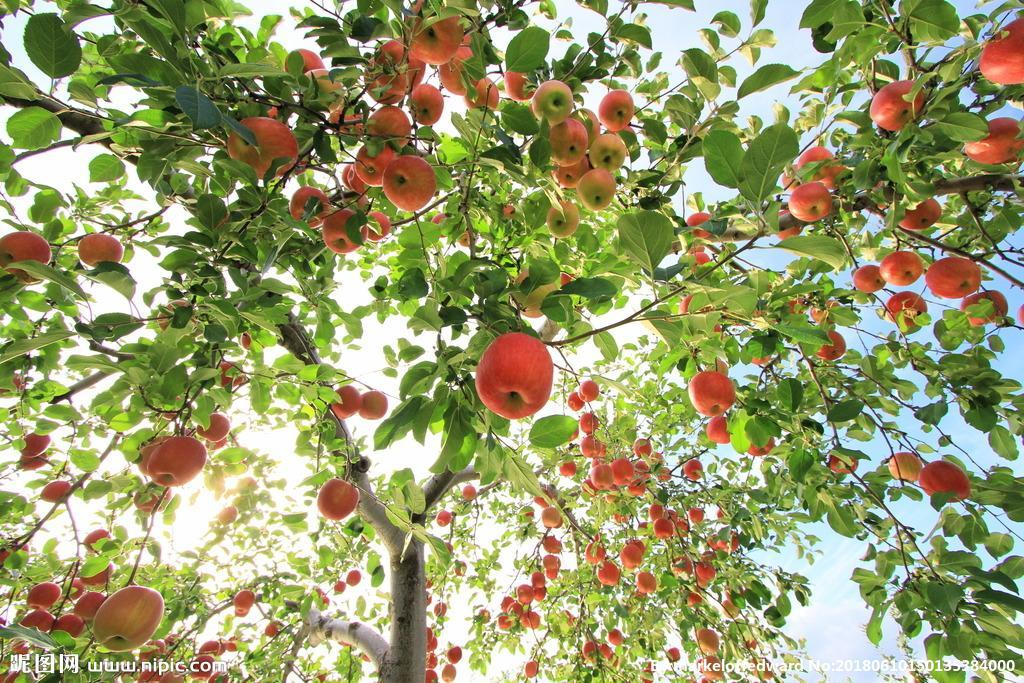apple: (473, 330, 552, 421), (91, 584, 167, 650), (227, 114, 297, 173), (403, 1, 465, 65), (144, 435, 208, 488), (380, 153, 435, 214), (963, 113, 1022, 167), (868, 78, 923, 133), (924, 256, 982, 299), (686, 370, 735, 418), (548, 117, 590, 168), (1, 231, 52, 273), (314, 476, 360, 521), (787, 181, 836, 222), (352, 143, 398, 186), (322, 209, 366, 253), (529, 79, 574, 122), (75, 233, 123, 269), (896, 194, 942, 231), (597, 88, 637, 130), (882, 247, 923, 287), (589, 130, 627, 172), (580, 167, 617, 210), (551, 154, 589, 190), (410, 83, 443, 124), (544, 202, 580, 238), (888, 451, 924, 483), (850, 264, 885, 293), (612, 456, 636, 488), (590, 462, 612, 491)
